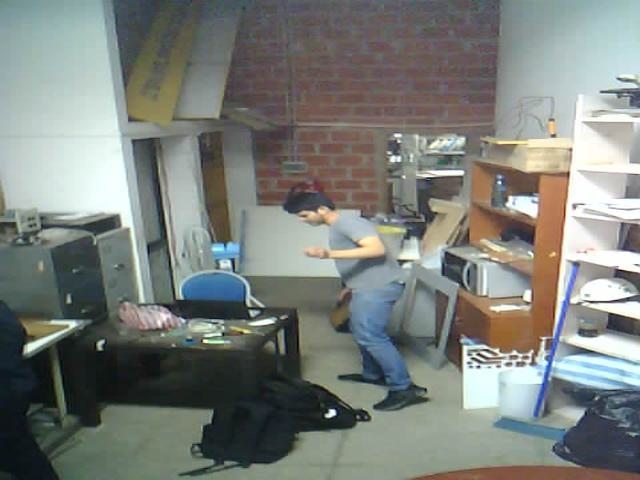person: (277, 173, 451, 447)
